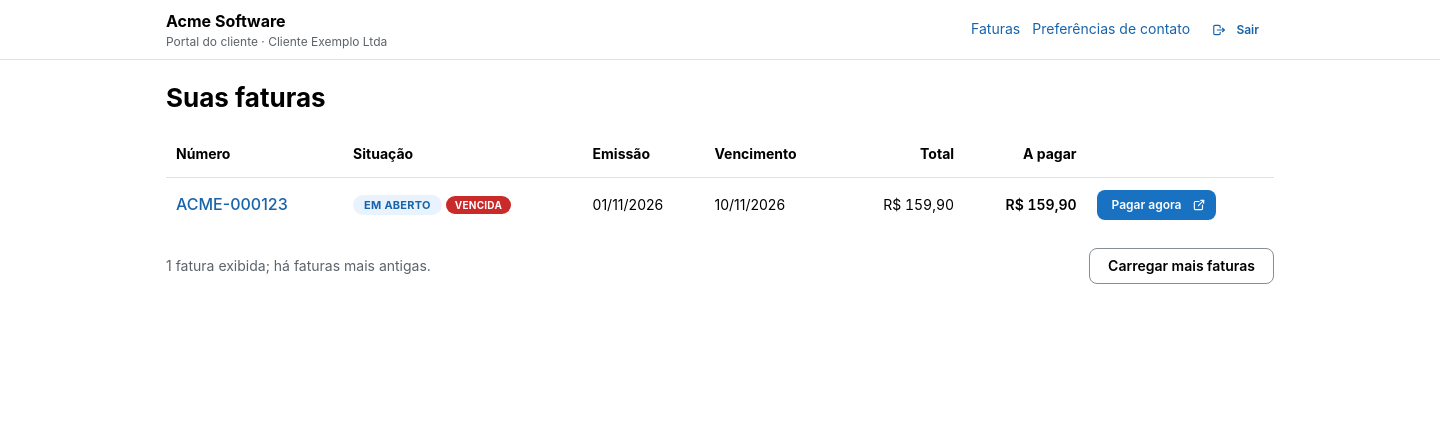
Test: portal do cliente › falha ao carregar mais mantém as faturas exibidas e permite tentar de novo
This screenshot has width=1440, height=447.
What coordinates should you click on to do the following:
click the button "Carregar mais faturas"
I would click on:
 (1182, 266)
Its box is [1089,248,1274,284].
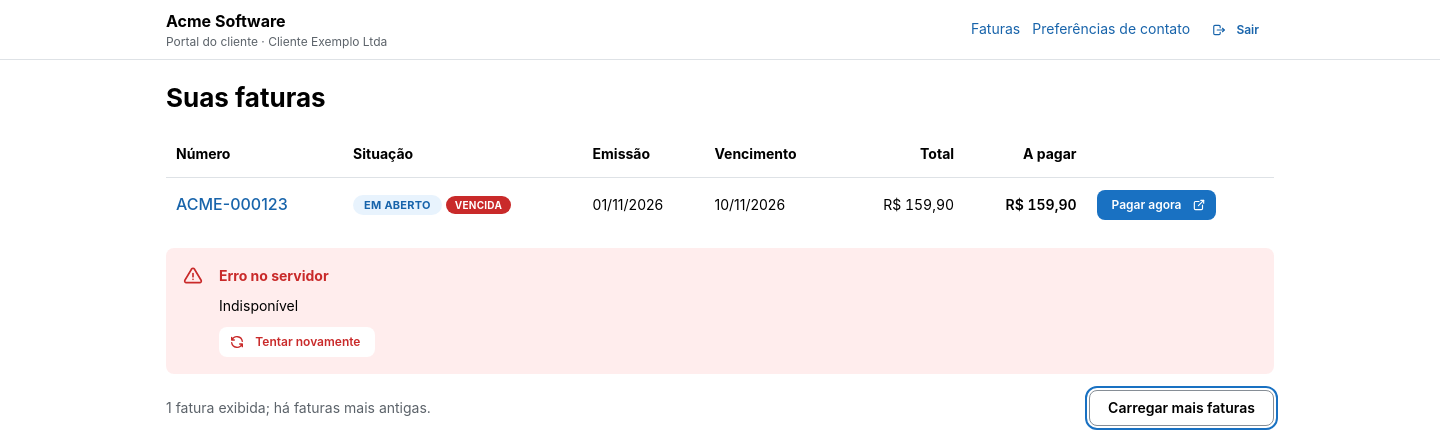
What coordinates should you click on to do the following:
click the button "Tentar novamente"
I would click on:
 (297, 342)
Its box is [219,327,376,357].
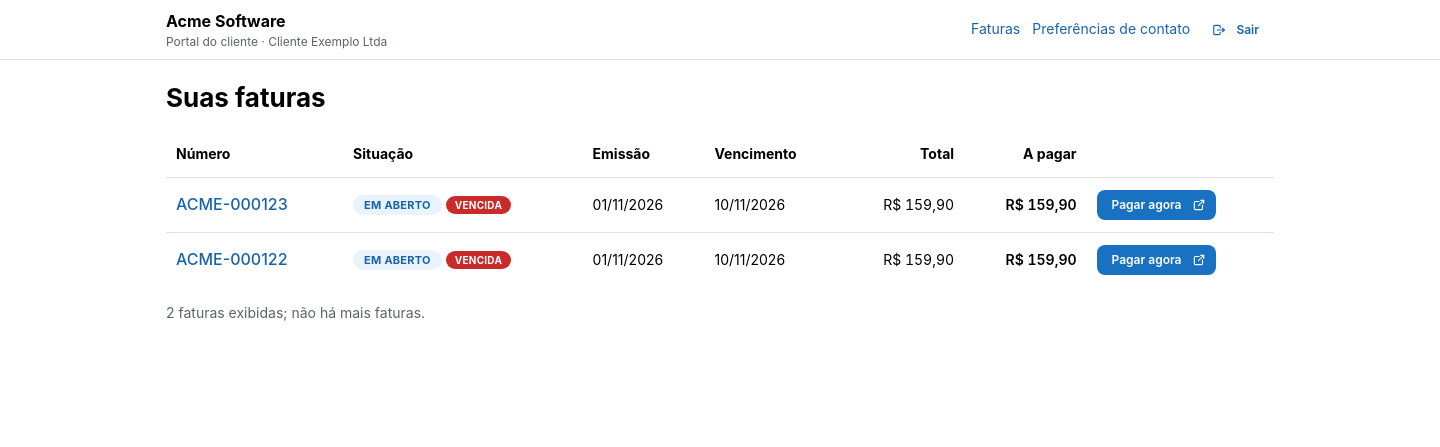
Expected: the link "ACME-000123" is shown, [176,194,288,214]
Expected: the link "ACME-000122" is shown, [176,249,288,269]
Expected: the button "Tentar novamente" is gone
